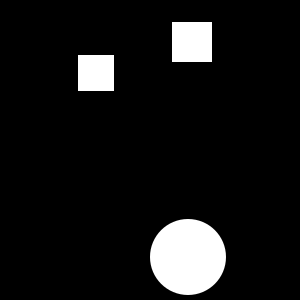circle: (172, 22, 212, 62), (78, 55, 114, 91)
rectangle: (150, 219, 226, 295)
